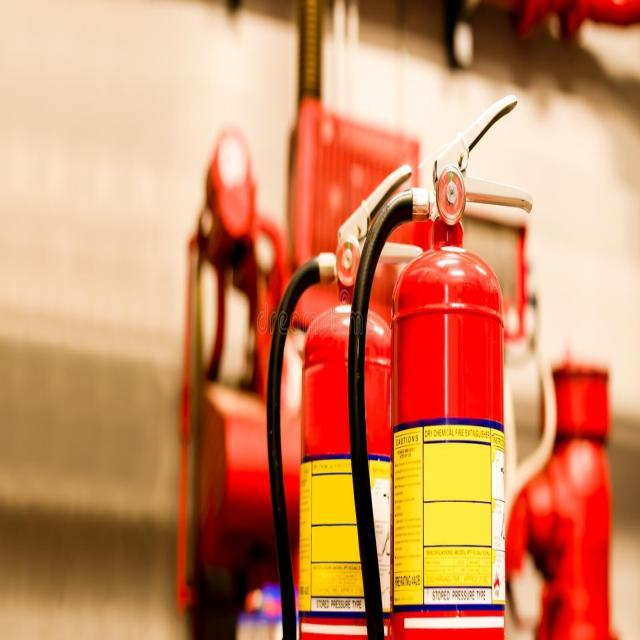fire_extinguisher: (344, 90, 534, 639), (264, 157, 427, 639)
